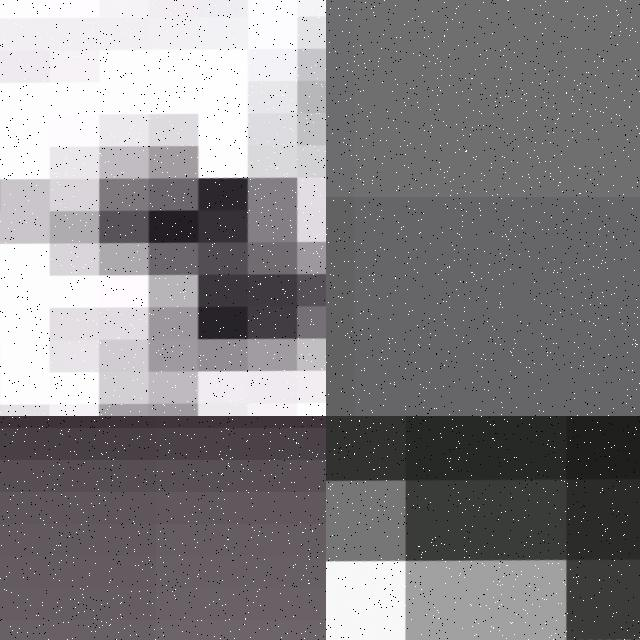0: (0, 0, 326, 416)
drone: (326, 416, 640, 640)
